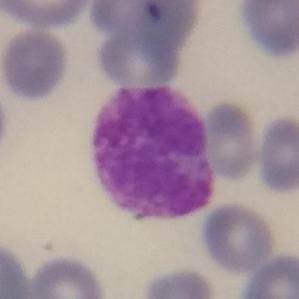Basophil: (82, 76, 221, 232)
RBC: (92, 11, 192, 91), (198, 200, 278, 274), (0, 26, 71, 103), (199, 98, 262, 182), (235, 0, 299, 61), (253, 113, 299, 195), (26, 253, 107, 299), (137, 0, 201, 53), (237, 251, 299, 299), (85, 0, 156, 37), (0, 0, 87, 30), (140, 266, 218, 299), (0, 240, 36, 299), (0, 93, 10, 153)
